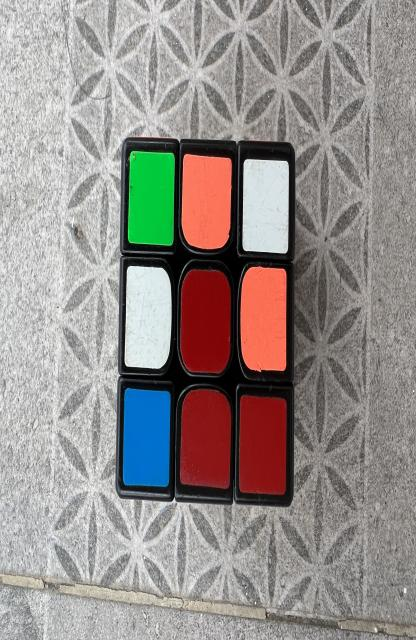Blue: (123, 388, 171, 487)
Green: (128, 150, 175, 245)
Orange: (181, 153, 232, 250), (240, 267, 287, 372)
Red: (180, 270, 231, 373), (180, 388, 232, 488), (240, 395, 287, 495)
White: (124, 267, 171, 368), (242, 158, 289, 253)
